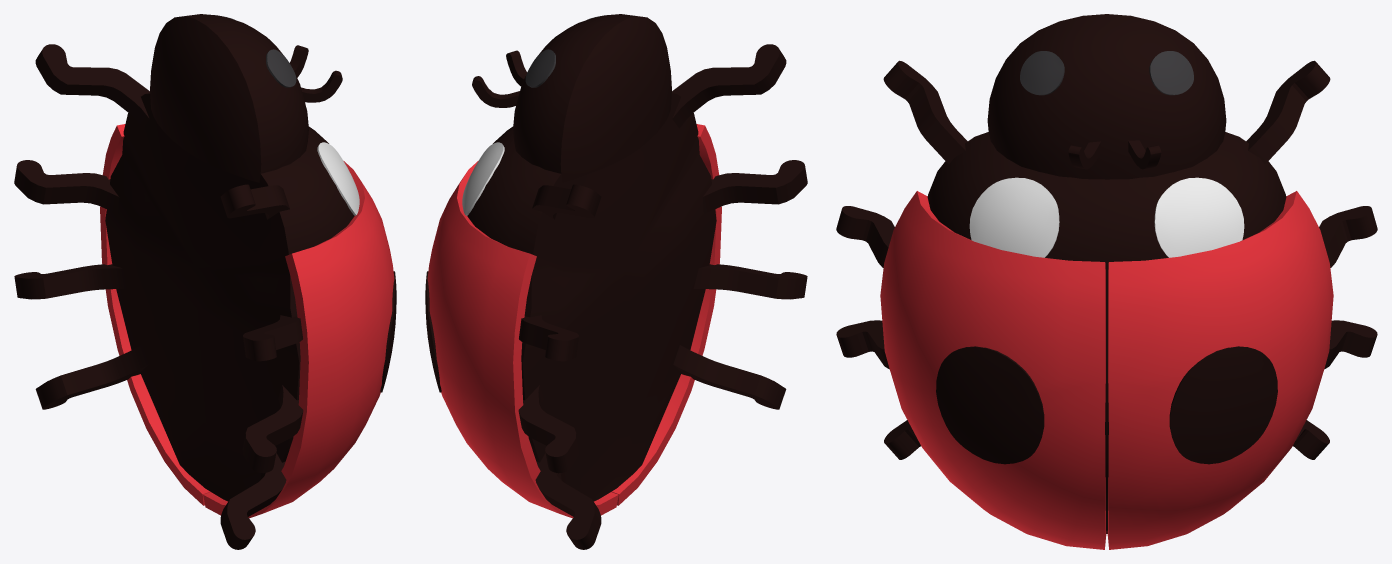
Rendered from Lady Beetle.gltf.
3 views of the same model, side by side, from view 1: azimuth 30°, elevation 25°; view 2: azimuth 150°, elevation 25°; view 3: azimuth 270°, elevation 25° (orthographic). The views are drawn at different scales.
Parts seen in each view (by area): view 1: Cube.142, Sphere.385, Cube.145, Cube.143, Circle.2001, Cube.144, Circle.1999, Circle.2000; view 2: Cube.142, Sphere.385, Cube.145, Cube.143, Circle.2001, Cube.144, Circle.1999, Circle.2000; view 3: Sphere.385, Cube.143, Cube.142, Circle.2000, Cube.145, Circle.2001, Circle.1999, Cube.144.
Boxes of the visible parts, x1,y1,x2,y2 form: Cube.142: (105,93,354,501); Sphere.385: (100,124,394,518); Cube.145: (14,44,303,549); Cube.143: (150,14,308,182); Circle.2001: (317,142,359,215); Cube.144: (289,45,342,102); Circle.1999: (210,14,296,87); Circle.2000: (380,271,396,392); Cube.142: (467,93,716,501); Sphere.385: (427,124,721,518); Cube.145: (518,44,807,549); Cube.143: (513,14,671,182); Circle.2001: (462,142,504,215); Cube.144: (472,50,526,107); Circle.1999: (525,14,611,87); Circle.2000: (425,271,441,392); Sphere.385: (880,191,1333,549); Cube.143: (987,14,1226,179); Cube.142: (927,132,1286,533); Circle.2000: (936,346,1277,464); Cube.145: (836,60,1377,459); Circle.2001: (969,177,1244,257); Circle.1999: (1020,51,1193,95); Cube.144: (1068,140,1161,169).
Size of the model in its own units: 0.9641 by 1.93 by 1.81.
